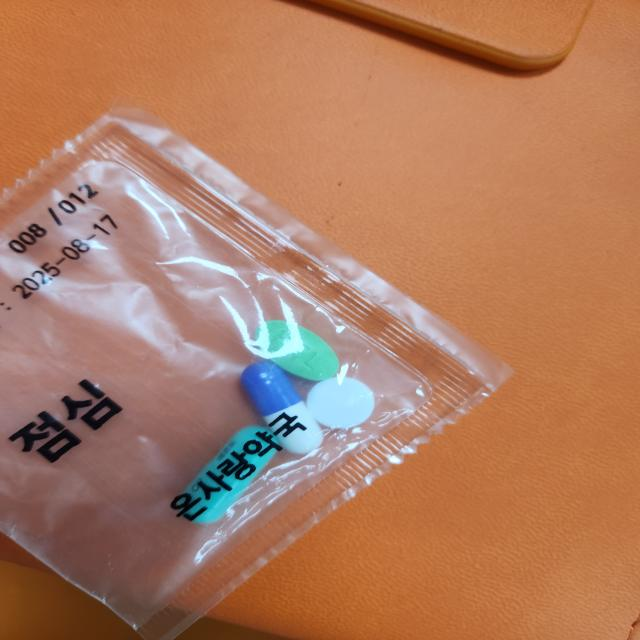러키펜정: (306, 374, 378, 432)
씨엠지세파클러캡슐: (240, 360, 331, 457)
에르도캡슐: (169, 426, 282, 527)
휴티렌정: (255, 319, 343, 383)
